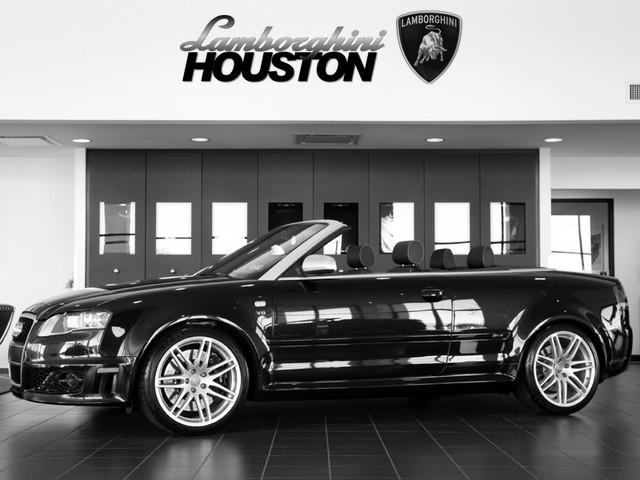car: (7, 219, 632, 439)
